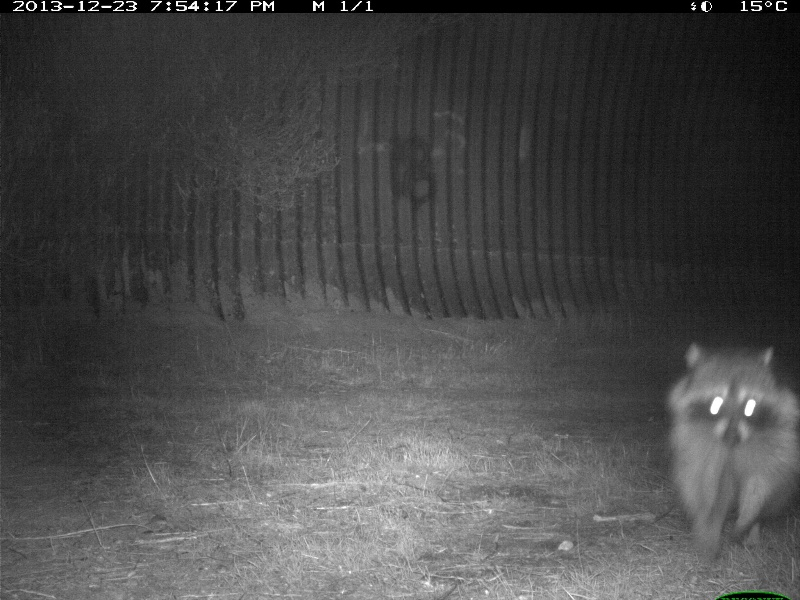raccoon: (666, 343, 800, 570)
